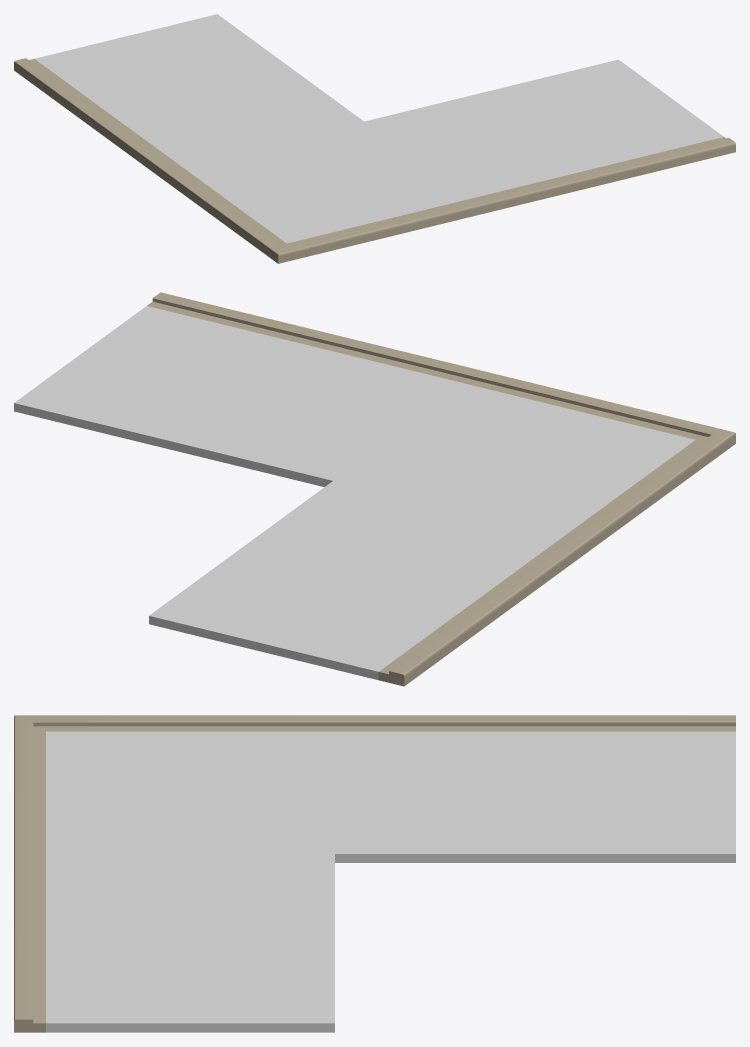
File: SIDEWALK_CORNER_RAW.fbx
3 views of the same model, one above another, from view 1: azimuth 30°, elevation 25°; view 2: azimuth 150°, elevation 25°; view 3: azimuth 270°, elevation 25° (orthographic). The views are drawn at different scales.
Visible parts, largest first — view 1: sidewalk_corner_piece; view 2: sidewalk_corner_piece; view 3: sidewalk_corner_piece.
Part boxes in pixels (box(x1,y1,x2,y2)): sidewalk_corner_piece: box(14, 14, 735, 263); sidewalk_corner_piece: box(14, 292, 735, 686); sidewalk_corner_piece: box(14, 715, 735, 1032).
Size of the model in its own units: 180 by 3.53 by 180.
